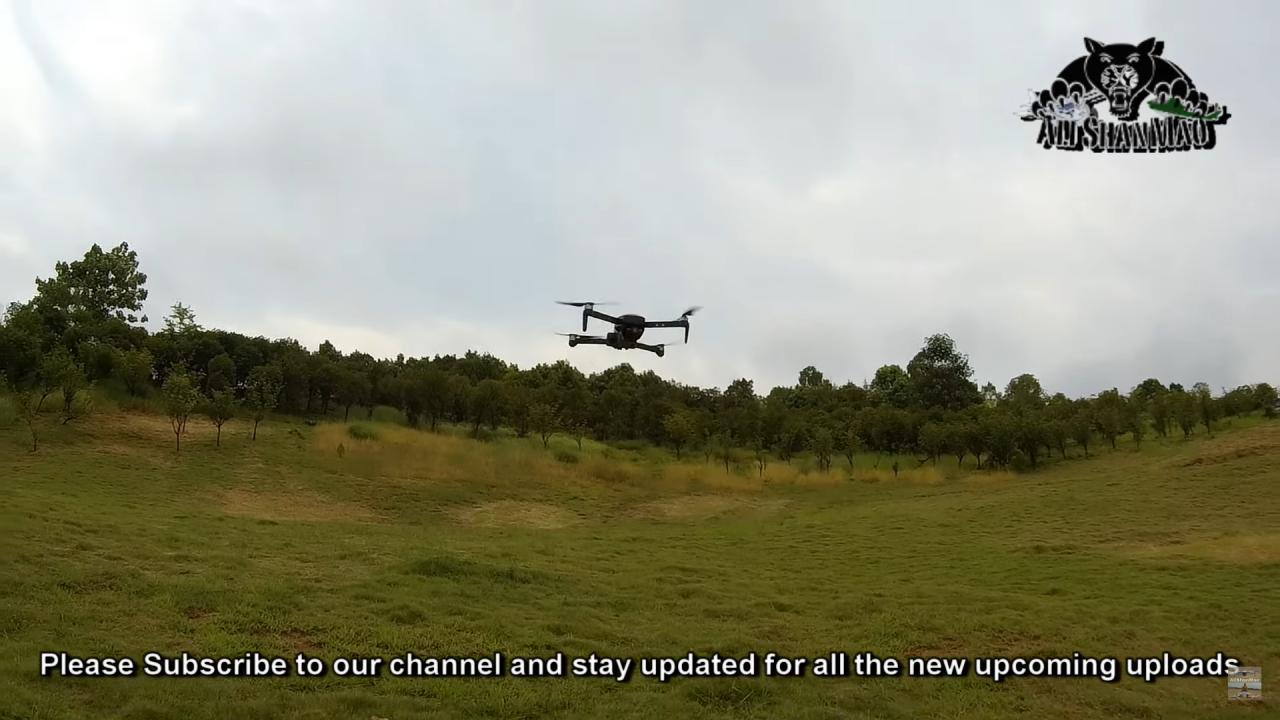Drone: (534, 283, 710, 362)
